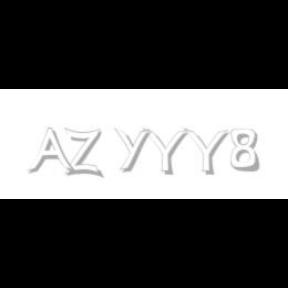8: (230, 128, 260, 172)
A: (27, 128, 75, 176)
Y: (142, 128, 188, 176), (183, 128, 229, 176)
Z: (64, 128, 101, 178)
y: (114, 128, 154, 172)
